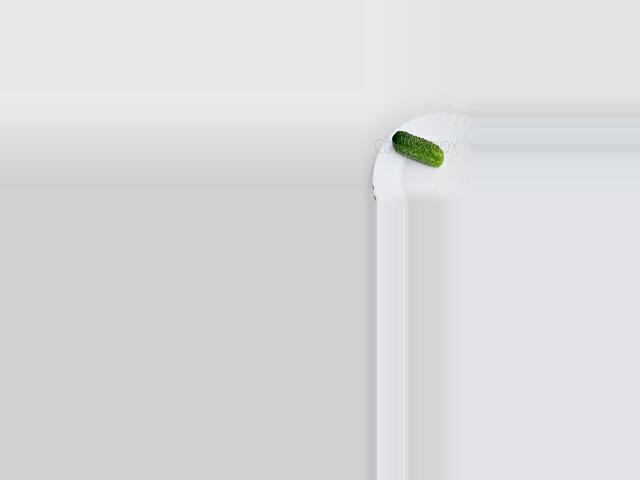cucumber: (393, 131, 443, 167)
